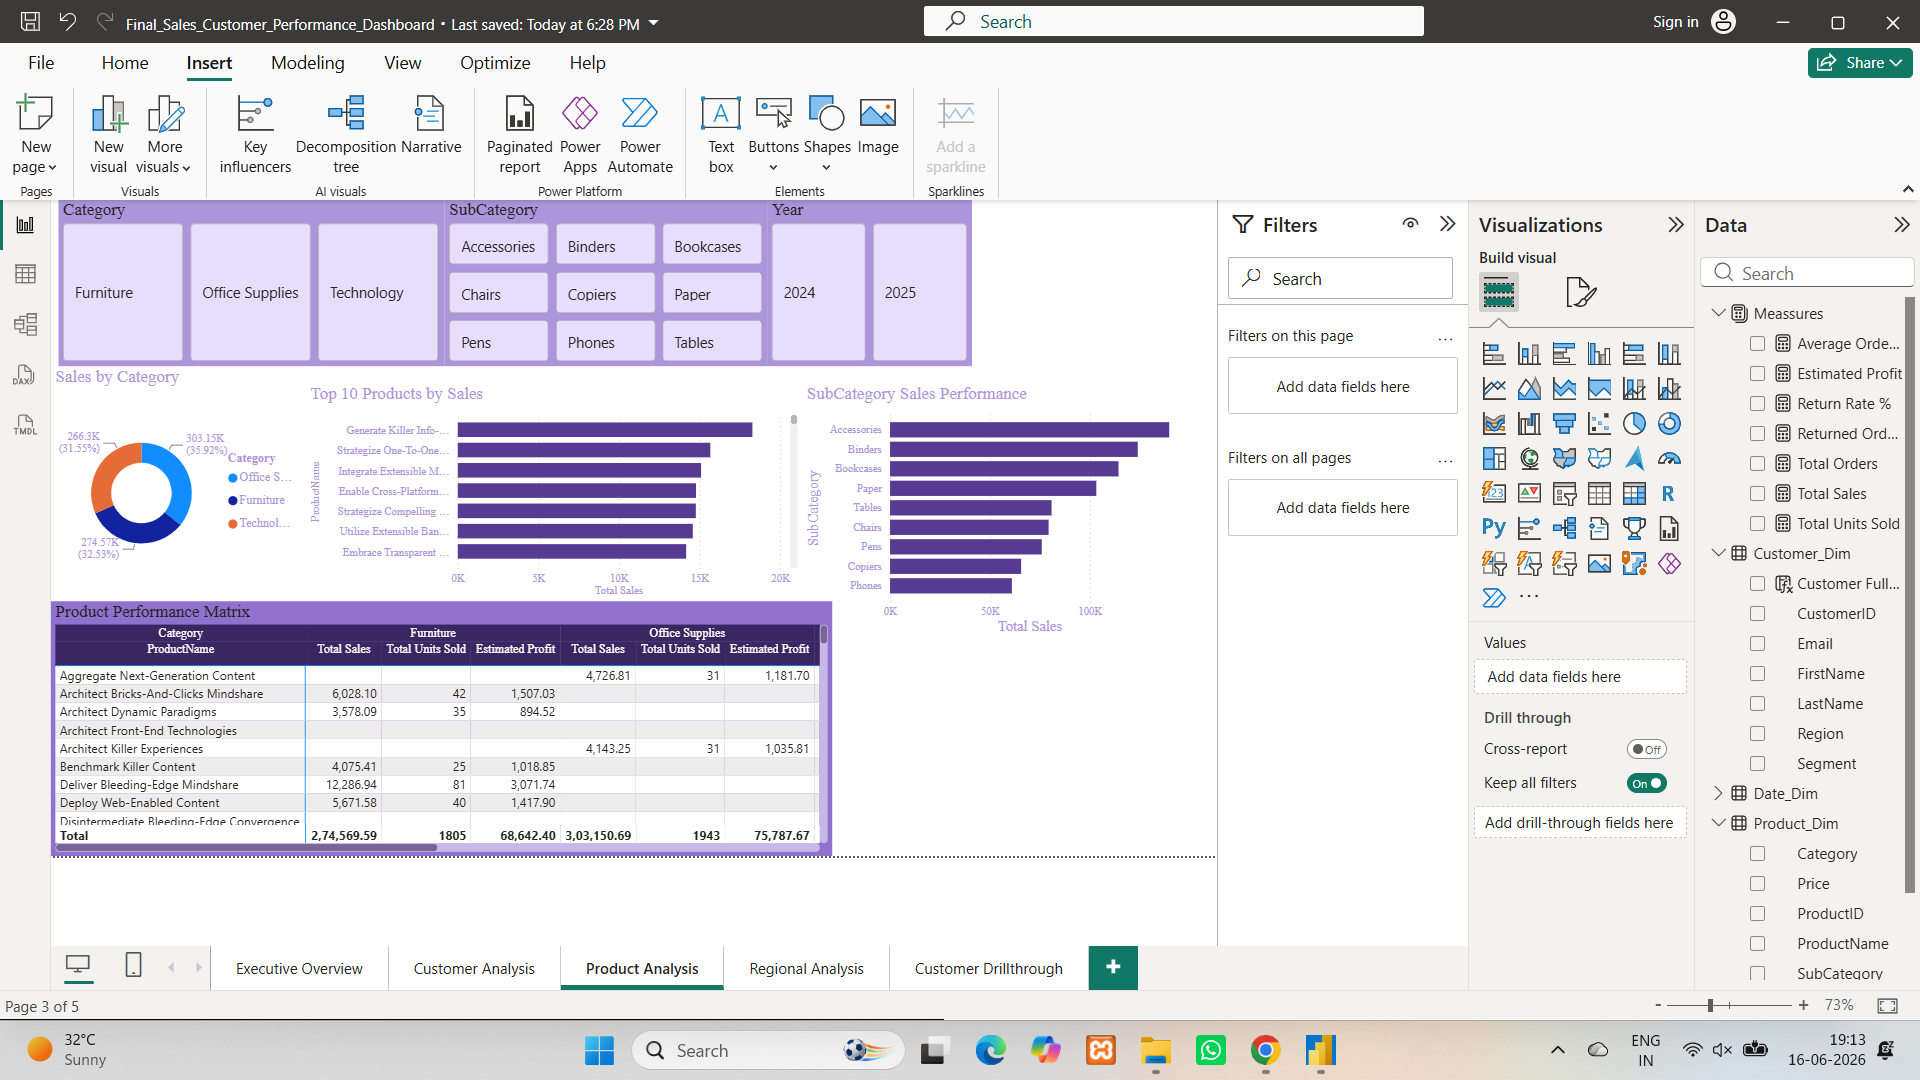

The page's visual inventory and layout, read from the dashboard file:
{"tool":"powerbi","page":{"name":"Product Analysis","canvas":[1280,720],"ordinal":2},"visuals":[{"type":"donutChart","title":"Sales by Category","fields":{"Category":["Product_Dim.Category"],"Y":["Meassures.Total Sales"]},"box":[0,182.5,279.9,258],"z":0},{"type":"clusteredBarChart","title":"SubCategory Sales Performance","fields":{"Category":["Product_Dim.SubCategory"],"Y":["Meassures.Total Sales"]},"box":[824.7,201.7,422.6,279.9],"z":1000},{"type":"clusteredBarChart","title":"Top 10 Products by Sales","fields":{"Category":["Product_Dim.ProductName"],"Y":["Meassures.Total Sales"]},"box":[279.9,201.7,544.8,238.8],"z":2000},{"type":"pivotTable","title":"Product Performance Matrix","fields":{"Rows":["Product_Dim.ProductName"],"Columns":["Product_Dim.Category"],"Values":["Meassures.Total Sales","Meassures.Total Units Sold","Meassures.Estimated Profit"]},"box":[0,440.5,857.6,279.9],"z":3000},{"type":"advancedSlicerVisual","fields":{"Values":["Product_Dim.Category"]},"box":[8.2,0,424,182.5],"z":4000},{"type":"advancedSlicerVisual","fields":{"Values":["Product_Dim.SubCategory"]},"box":[432.2,0,354,182.5],"z":5000},{"type":"advancedSlicerVisual","fields":{"Values":["Date_Dim.Year"]},"box":[786.3,0,225,182.5],"z":6000}]}

Visuals, with their boxes on the page's 1280x720 design canvas (x1, y1, x2, y2). These are canvas units, not pixel positions in the 1920x1080 screenshot, which may show the page scaled, cropped or inside an application window:
"Sales by Category" donutChart: <bbox>0, 182, 280, 440</bbox>
"SubCategory Sales Performance" clusteredBarChart: <bbox>825, 202, 1247, 482</bbox>
"Top 10 Products by Sales" clusteredBarChart: <bbox>280, 202, 825, 440</bbox>
"Product Performance Matrix" pivotTable: <bbox>0, 440, 858, 720</bbox>
advancedSlicerVisual - Product_Dim.Category: <bbox>8, 0, 432, 182</bbox>
advancedSlicerVisual - Product_Dim.SubCategory: <bbox>432, 0, 786, 182</bbox>
advancedSlicerVisual - Date_Dim.Year: <bbox>786, 0, 1011, 182</bbox>
